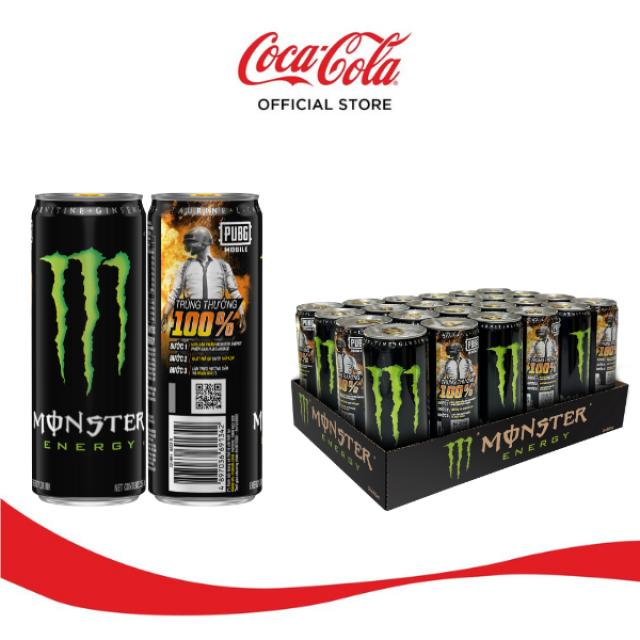Cans: (19, 165, 164, 515)
